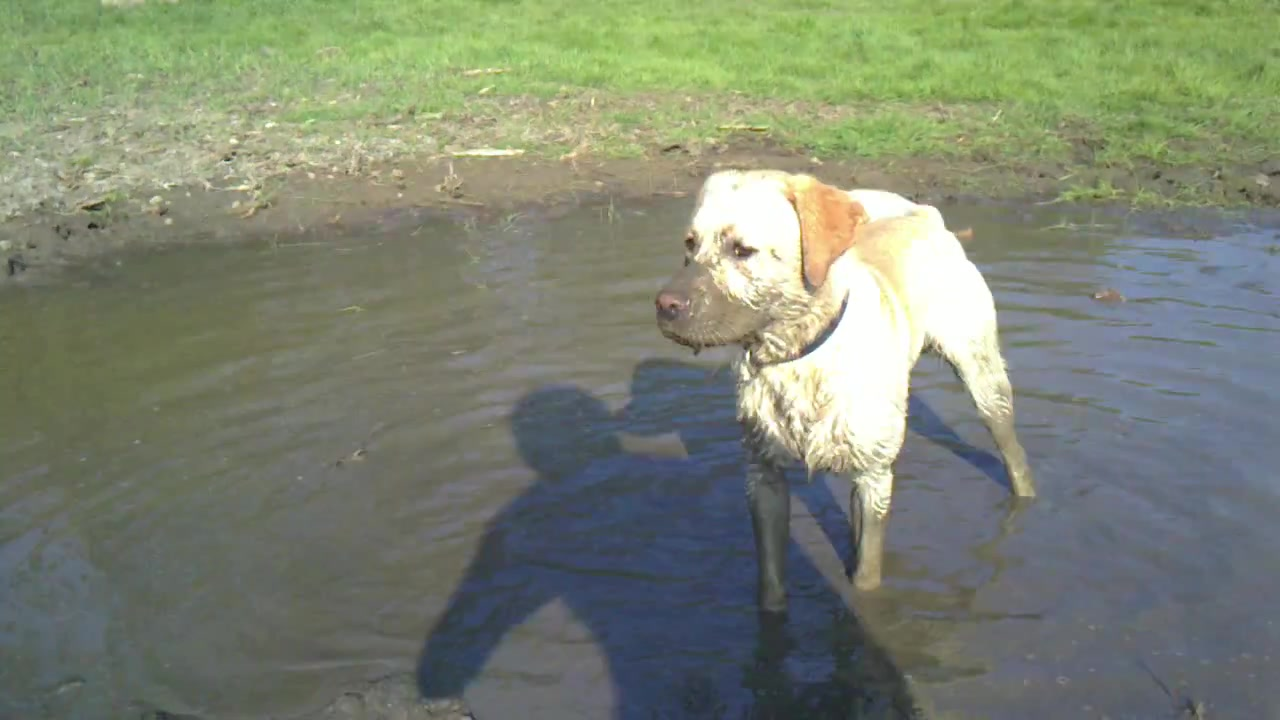dog: (655, 165, 1040, 617)
